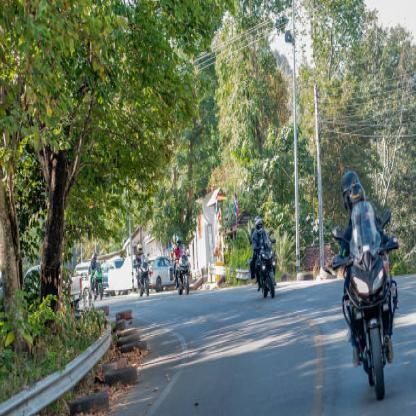Motorcycle: (330, 208, 395, 405)
